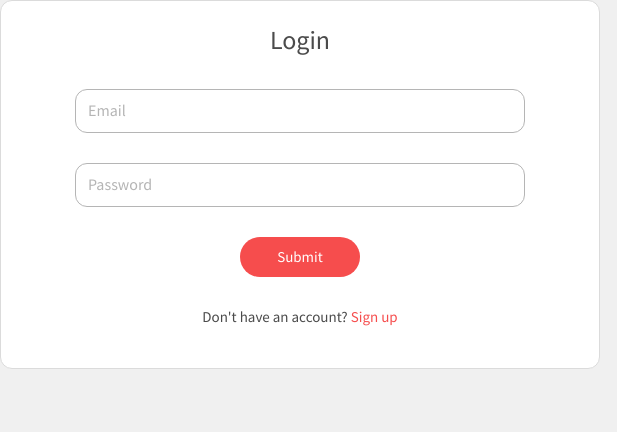
Test case: LoginForm › clears a field error when the user types in that field
Click the button "Submit" at (300, 257), box [240, 237, 360, 277]
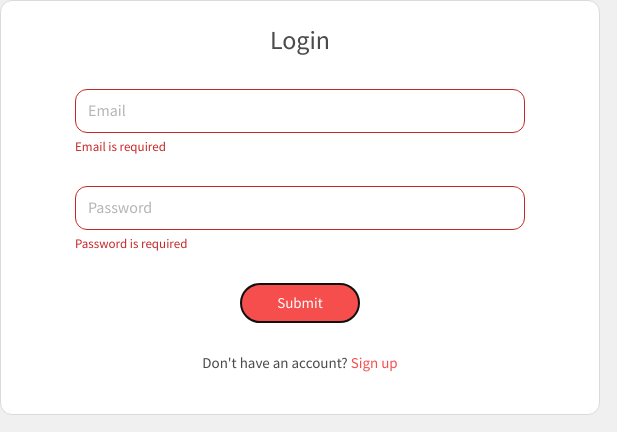
Now the text "Email is required" is shown, box [75, 139, 166, 156]
Type "u" into the field with placeholder "Email" at (300, 111), box [75, 89, 525, 133]
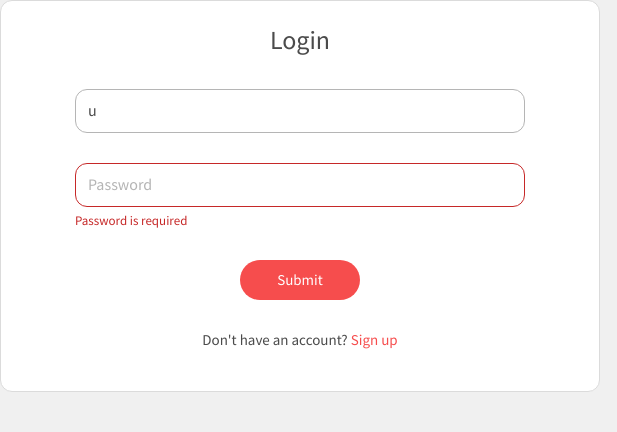
Now the text "Password is required" is shown, box [75, 213, 187, 230]
Now the text "Email is required" is gone
